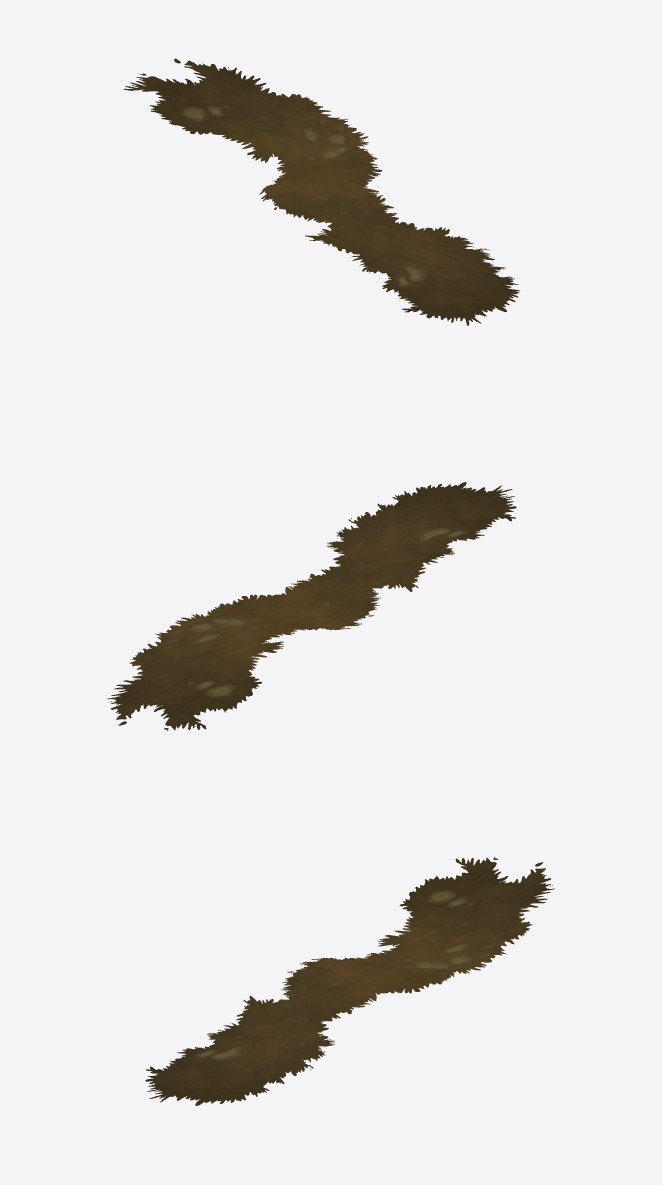
Rendered from road_straight_dirt1a.fbx.
3 renders of one model, top to bottom at view 1: azimuth 30°, elevation 25°; view 2: azimuth 150°, elevation 25°; view 3: azimuth 330°, elevation 25°, orthographic.
Parts seen in each view (by area): view 1: obj0.072; view 2: obj0.072; view 3: obj0.072.
Boxes of the visible parts, x1,y1,x2,y2 form: obj0.072: (123,58,519,325); obj0.072: (107,482,516,731); obj0.072: (145,856,554,1105).
Bounding box in the file's own units: 7.54 × 4.5e-06 × 24.54.
